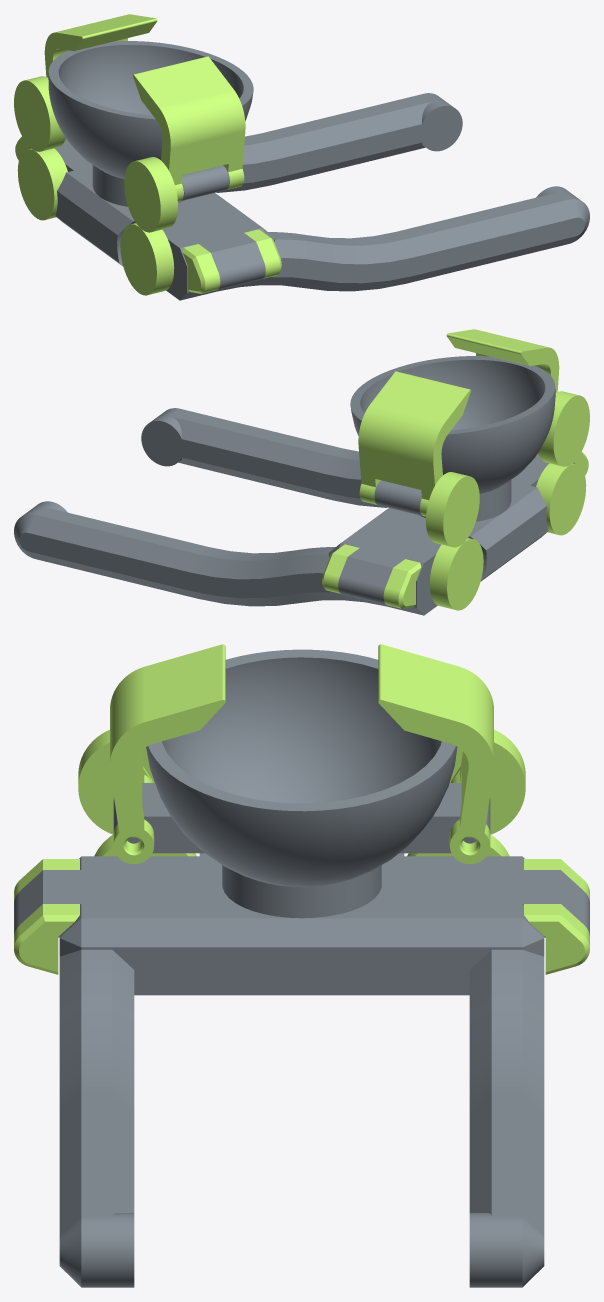
The model's file is WildWillyR5_arm.dae.
3 renders of one model, top to bottom at view 1: azimuth 30°, elevation 25°; view 2: azimuth 150°, elevation 25°; view 3: azimuth 270°, elevation 25°, orthographic. The views are drawn at different scales.
Visible parts, largest first — view 1: 68050167c4675d33c40e4d93 (×7); view 2: 68050167c4675d33c40e4d93 (×7); view 3: 68050167c4675d33c40e4d93 (×5).
Boxes of the visible parts, x1=… form: 68050167c4675d33c40e4d93 (×7): x1=14, y1=14, x2=589, y2=300; 68050167c4675d33c40e4d93 (×7): x1=14, y1=329, x2=589, y2=615; 68050167c4675d33c40e4d93 (×5): x1=14, y1=644, x2=589, y2=1287.
Bounding box in the file's own units: 0.1583 × 0.1138 × 0.0765.
